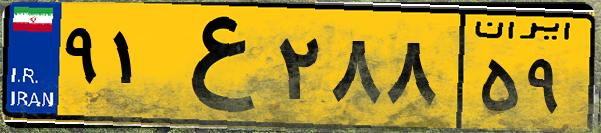1: (110, 28, 158, 98)
2: (270, 28, 330, 110)
5: (475, 38, 525, 113)
8: (385, 28, 445, 110), (330, 28, 385, 110)
9: (57, 26, 110, 100), (525, 38, 570, 115)
ع: (158, 12, 270, 120)
